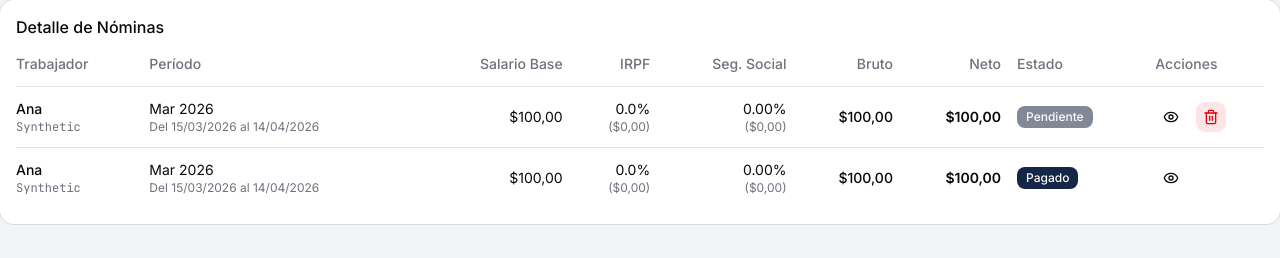
Test: connection errors preserve the row and reenable deletion
The image size is (1280, 258).
What coordinates should you click on to do the following:
click the button named "Eliminar nómina pendiente de Ana"
I would click on:
 (1211, 117)
Its box is [1195,101,1227,133].
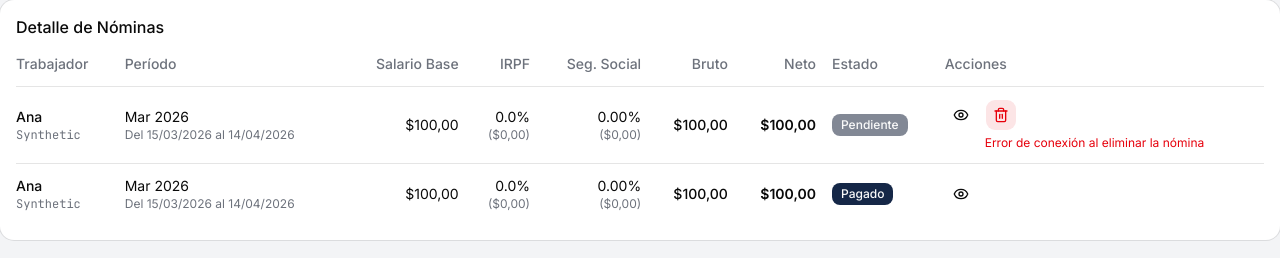
Check: the button named "Eliminar nómina pendiente de Ana" is enabled, box [985,99,1017,131]
Check: the message reads "Error de conexión al eliminar la nómina", box [985,135,1204,150]
